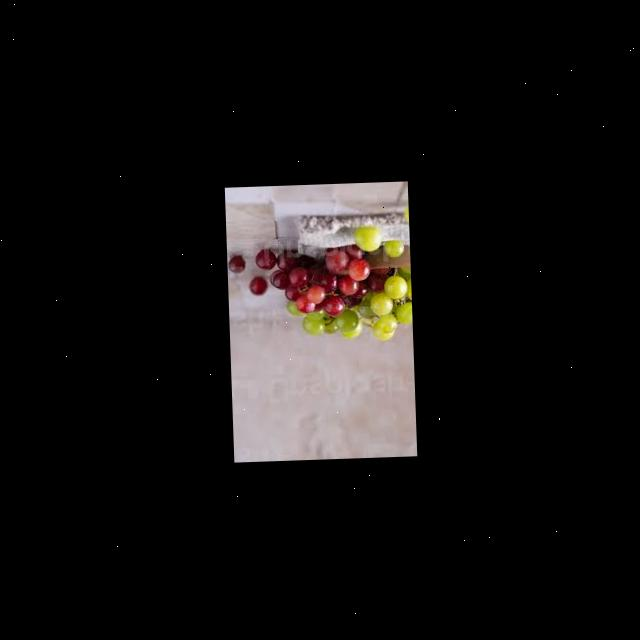grape: (267, 246, 372, 310), (334, 271, 410, 345)
